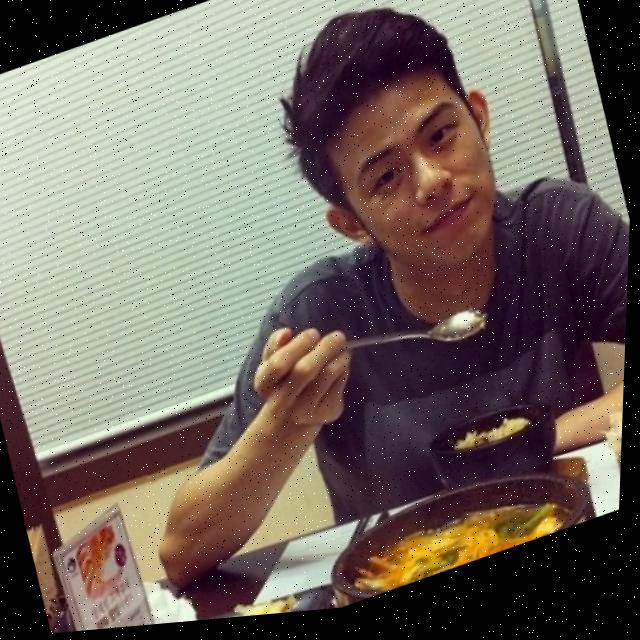eating-person: (26, 0, 640, 637)
